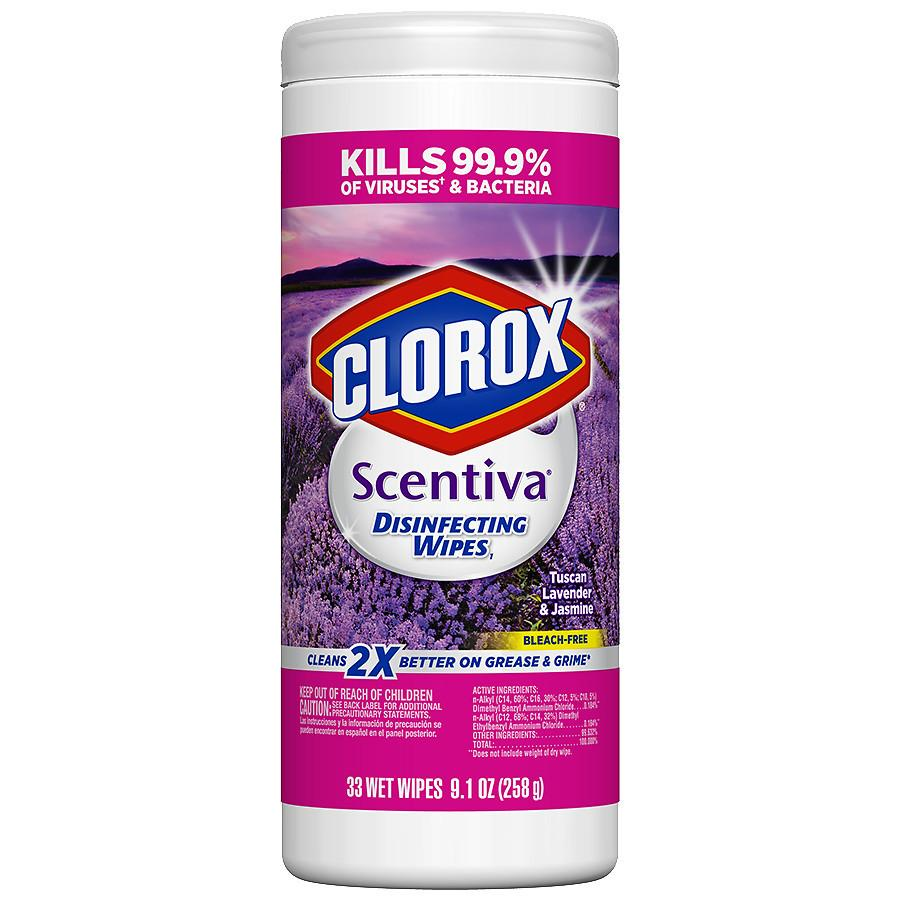Wipes: (274, 7, 630, 894)
